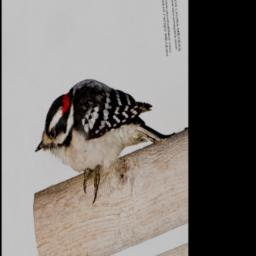Woodpecker: (31, 53, 158, 226)
